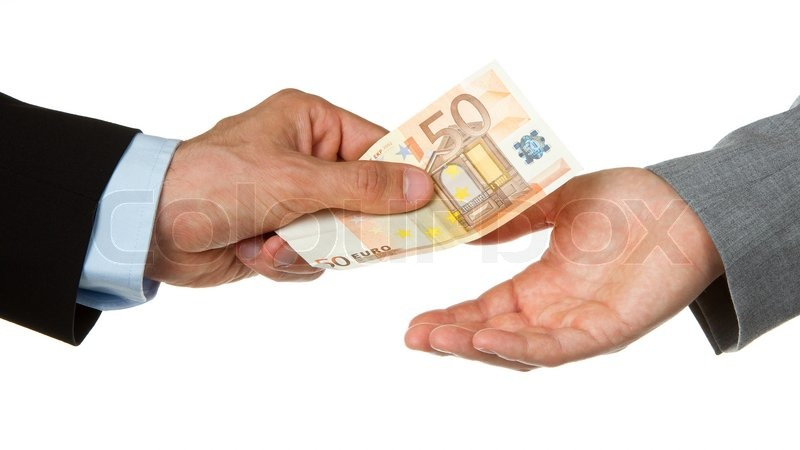billete: (271, 55, 587, 273)
